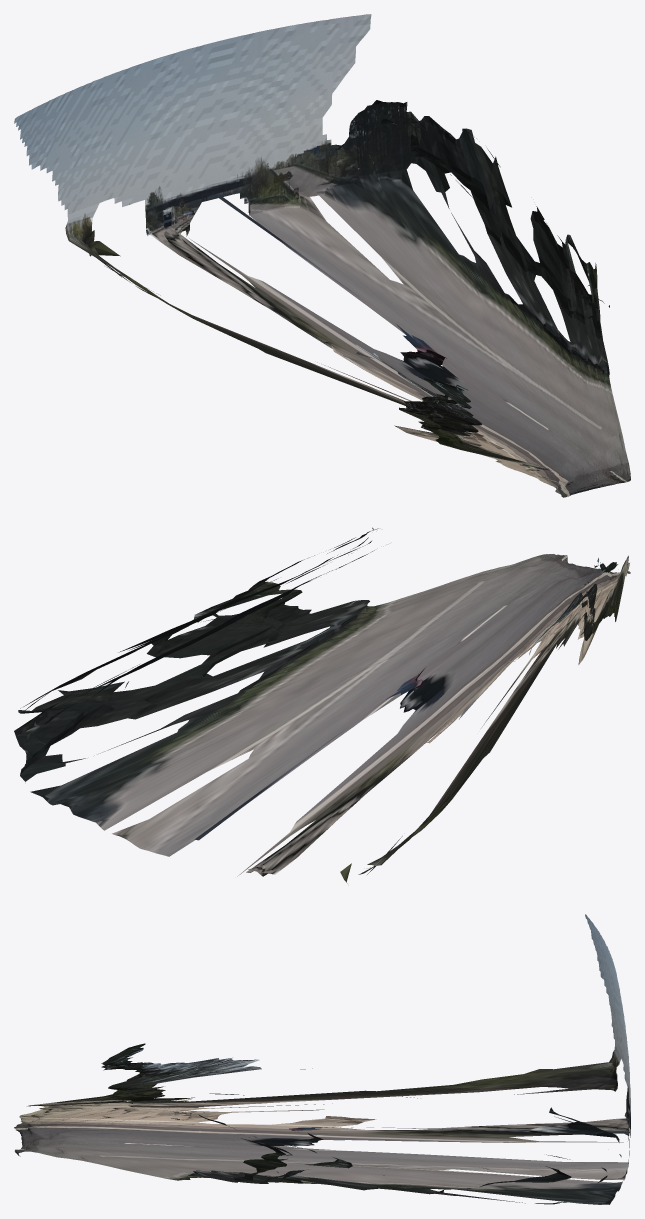
3 views of the same model, one above another, from view 1: azimuth 30°, elevation 25°; view 2: azimuth 150°, elevation 25°; view 3: azimuth 270°, elevation 25° (orthographic). The views are drawn at different scales.
Parts seen in each view (by area): view 1: defaultobject; view 2: defaultobject; view 3: defaultobject.
Part boxes in pixels (box(x1,y1,x2,y2)): defaultobject: box(14, 14, 630, 497); defaultobject: box(14, 527, 630, 883); defaultobject: box(14, 914, 630, 1204).
Bounding box in the file's own units: 30.11 × 12.47 × 44.7.
Materials: 1 (1 with a texture image).
